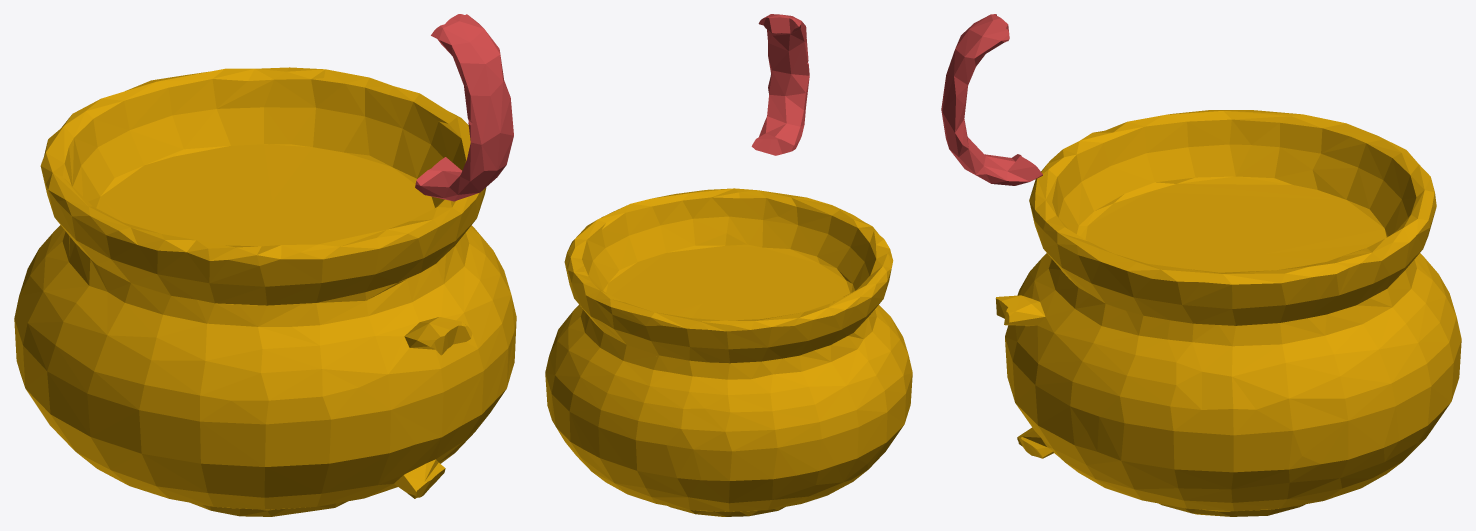
The model's file is fractured_29_2pcs_transformed.glb.
3 renders of one model, left to right at view 1: azimuth 30°, elevation 25°; view 2: azimuth 150°, elevation 25°; view 3: azimuth 270°, elevation 25°, orthographic. The views are drawn at different scales.
Parts seen in each view (by area): view 1: piece_0.obj, piece_1.obj; view 2: piece_0.obj, piece_1.obj; view 3: piece_0.obj, piece_1.obj.
Boxes of the visible parts, x1,y1,x2,y2 form: piece_0.obj: [14, 67, 516, 516]; piece_1.obj: [415, 14, 513, 201]; piece_0.obj: [545, 188, 912, 516]; piece_1.obj: [751, 14, 809, 155]; piece_0.obj: [995, 110, 1461, 516]; piece_1.obj: [941, 14, 1042, 185].
Size of the model in its own units: 0.878 by 1.03 by 1.
